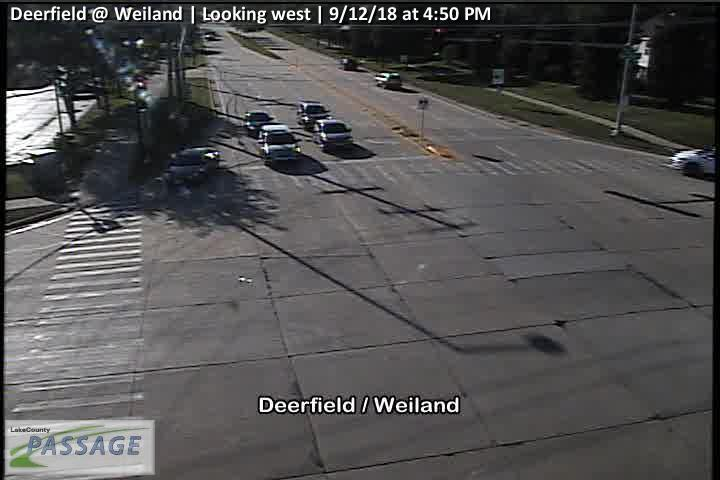SUV: (261, 125, 302, 161), (314, 118, 353, 151), (298, 100, 329, 129), (375, 72, 402, 90)
Sedan: (163, 146, 219, 184), (244, 110, 274, 137)
